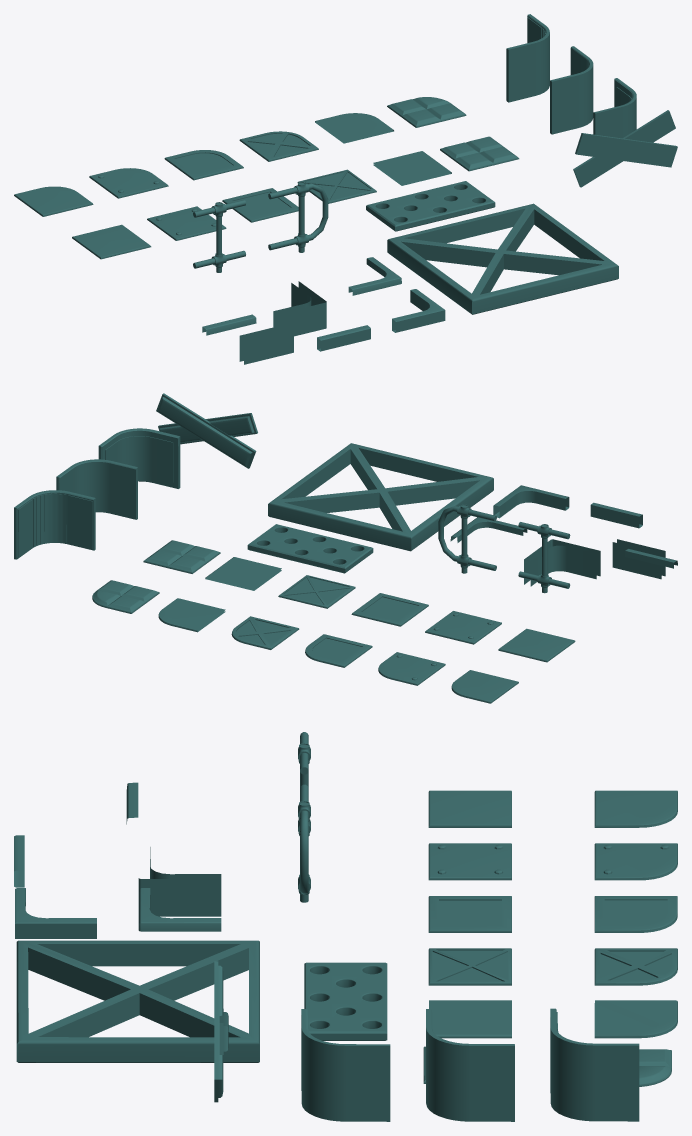
File: tilemap.fbx
3 views of the same model, one above another, from view 1: azimuth 30°, elevation 25°; view 2: azimuth 150°, elevation 25°; view 3: azimuth 270°, elevation 25° (orthographic). The views are drawn at different scales.
Parts seen in each view (by area): view 1: ventana_completa_rota, signal, pared_agujerada, costado1, costado3, ventana_L_seccionmedio, costado2, ventana_I_seccion_medio, tile_cerrado_a, tile_chocolate_a, tile_simple_a, tile_chocolate_angulo (+14 smaller); view 2: ventana_completa_rota, costado3, costado2, signal, costado1, pared_agujerada, ventana_L_seccionmedio, tile_cerrado_a, tile_chocolate_a, tile_simple_a, tile_boxdentro_a, tile_cross_a (+14 smaller); view 3: ventana_completa_rota, costado3, costado2, costado1, pared_agujerada, ventana_L_seccionmedio, tile_cross_a, tile_simple_a, tile_tornillos_a1, tile_cerrado_angulo, tile_cerrado_a, tile_boxdentro_a (+11 smaller).
Boxes of the visible parts, bbox=[...] form: ventana_completa_rota: bbox=[387, 203, 618, 314]; signal: bbox=[573, 110, 677, 187]; pared_agujerada: bbox=[366, 181, 495, 231]; costado1: bbox=[550, 46, 593, 134]; costado3: bbox=[506, 14, 549, 102]; ventana_L_seccionmedio: bbox=[273, 281, 326, 336]; costado2: bbox=[593, 78, 636, 138]; ventana_I_seccion_medio: bbox=[239, 323, 293, 364]; tile_cerrado_a: bbox=[373, 151, 451, 185]; tile_chocolate_a: bbox=[440, 136, 519, 171]; tile_simple_a: bbox=[72, 224, 151, 259]; tile_chocolate_angulo: bbox=[387, 97, 466, 127]; ventana_completa_rota: bbox=[268, 443, 493, 551]; costado3: bbox=[14, 490, 95, 559]; costado2: bbox=[98, 428, 180, 488]; signal: bbox=[156, 393, 257, 468]; costado1: bbox=[56, 459, 137, 519]; pared_agujerada: bbox=[247, 524, 373, 573]; ventana_L_seccionmedio: bbox=[524, 539, 600, 586]; tile_cerrado_a: bbox=[205, 557, 281, 590]; tile_chocolate_a: bbox=[143, 540, 220, 573]; tile_simple_a: bbox=[498, 628, 575, 662]; tile_boxdentro_a: bbox=[351, 593, 428, 626]; tile_cross_a: bbox=[278, 575, 355, 608]; ventana_completa_rota: bbox=[16, 940, 259, 1062]; costado3: bbox=[550, 1008, 639, 1121]; costado2: bbox=[301, 1009, 390, 1121]; costado1: bbox=[426, 1009, 514, 1121]; pared_agujerada: bbox=[304, 962, 387, 1040]; ventana_L_seccionmedio: bbox=[138, 847, 221, 916]; tile_cross_a: bbox=[428, 948, 511, 985]; tile_simple_a: bbox=[428, 790, 511, 827]; tile_tornillos_a1: bbox=[428, 843, 511, 880]; tile_cerrado_angulo: bbox=[594, 1000, 677, 1038]; tile_cerrado_a: bbox=[429, 1000, 511, 1038]; tile_boxdentro_a: bbox=[428, 896, 511, 932].
Size of the model in its own units: 20.06 by 4.05 by 16.
